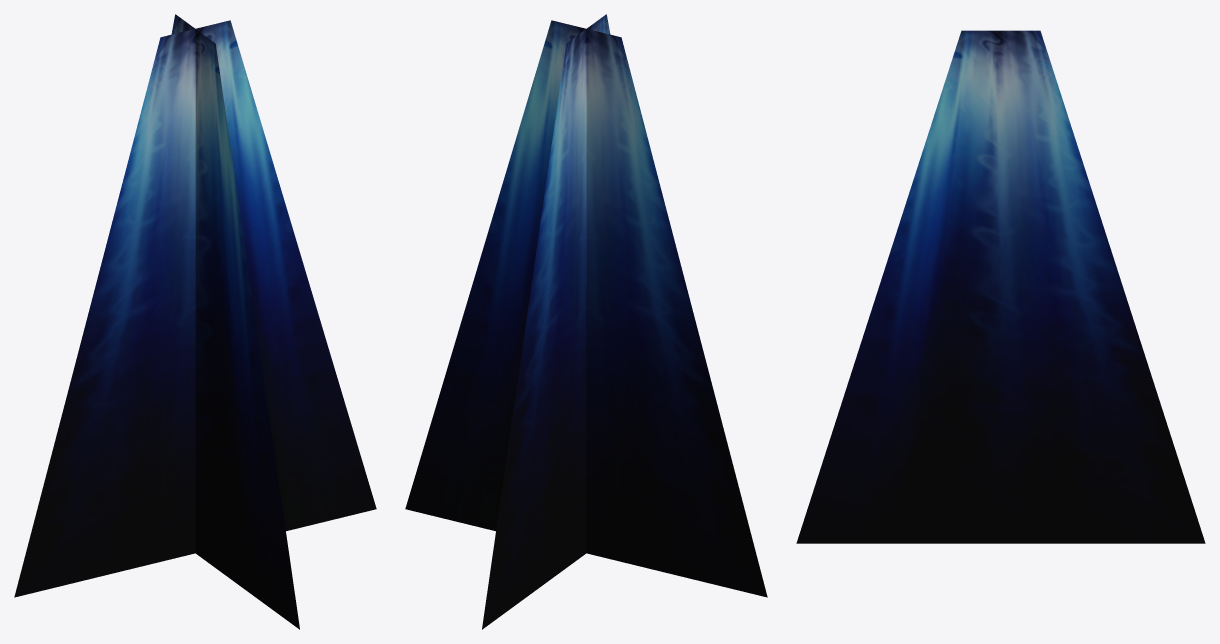
Rendered from JiJia_JiDi02.FBX.
3 views of the same model, side by side, from view 1: azimuth 30°, elevation 25°; view 2: azimuth 150°, elevation 25°; view 3: azimuth 270°, elevation 25° (orthographic). The views are drawn at different scales.
Parts seen in each view (by area): view 1: Plane003; view 2: Plane003; view 3: Plane003.
Boxes of the visible parts, left/top/right/bottom form: Plane003: left=14, top=14, right=376, bottom=629; Plane003: left=405, top=14, right=767, bottom=629; Plane003: left=796, top=30, right=1205, bottom=543.
Bounding box in the file's own units: 43.42 × 60.05 × 43.42.
